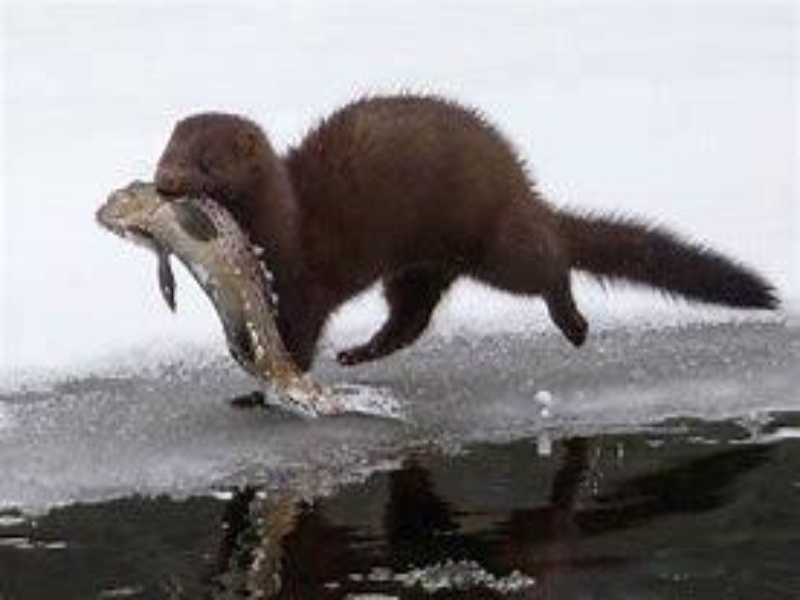minkish: (150, 85, 785, 415)
